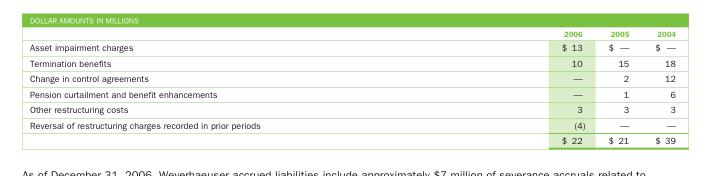table: (28, 28, 674, 145)
table column: (28, 28, 410, 145), (410, 28, 595, 145), (595, 28, 641, 145), (641, 28, 674, 145)
table column header: (28, 28, 674, 39)
table row: (28, 54, 674, 70), (28, 85, 674, 101), (28, 116, 674, 132), (28, 39, 674, 54), (28, 70, 674, 85), (28, 101, 674, 116), (28, 132, 674, 145), (28, 28, 674, 39)
